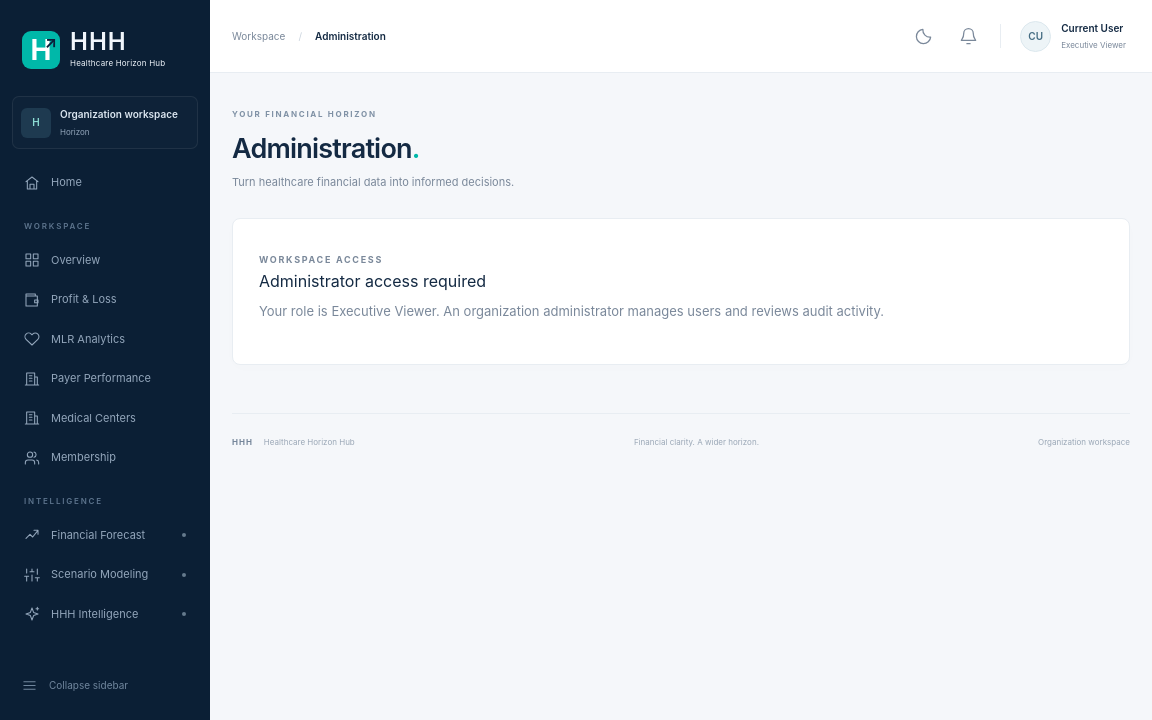
it: Workspace account controls › opens Settings from the account menu
Click the button with aria-label "Your account" at [1073, 36], box top-left (1016, 16), bottom-right (1130, 56)
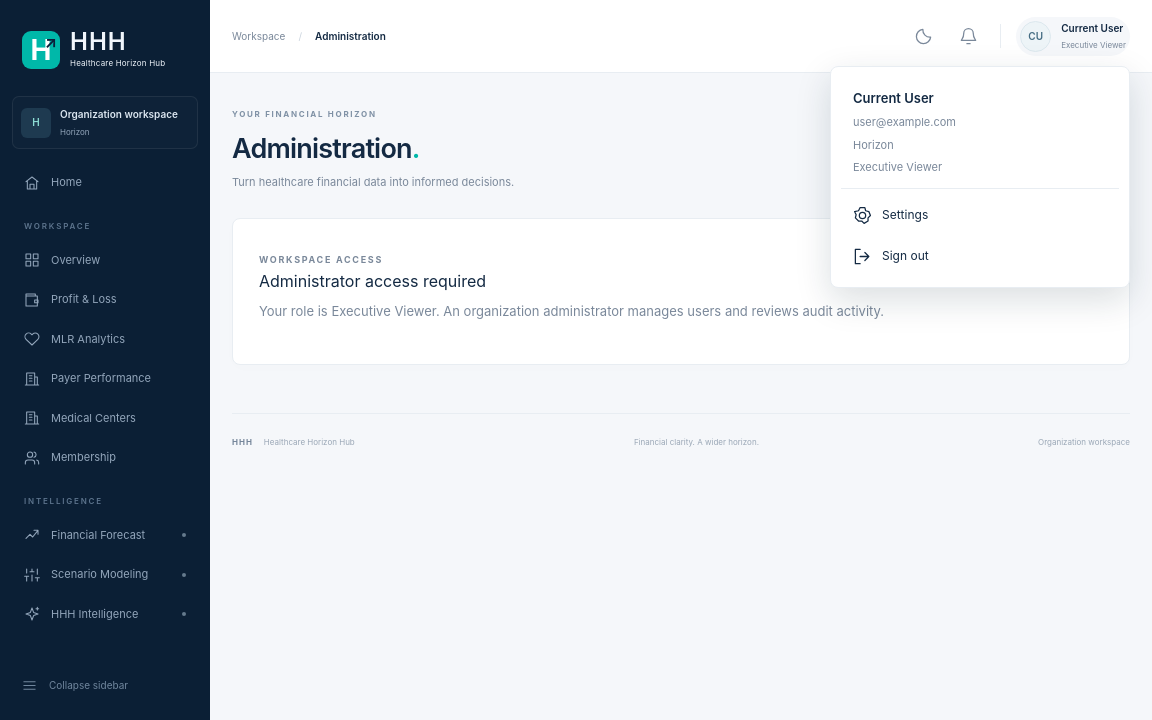
Click the link to "/app/settings" at [891, 215], box top-left (853, 206), bottom-right (928, 224)
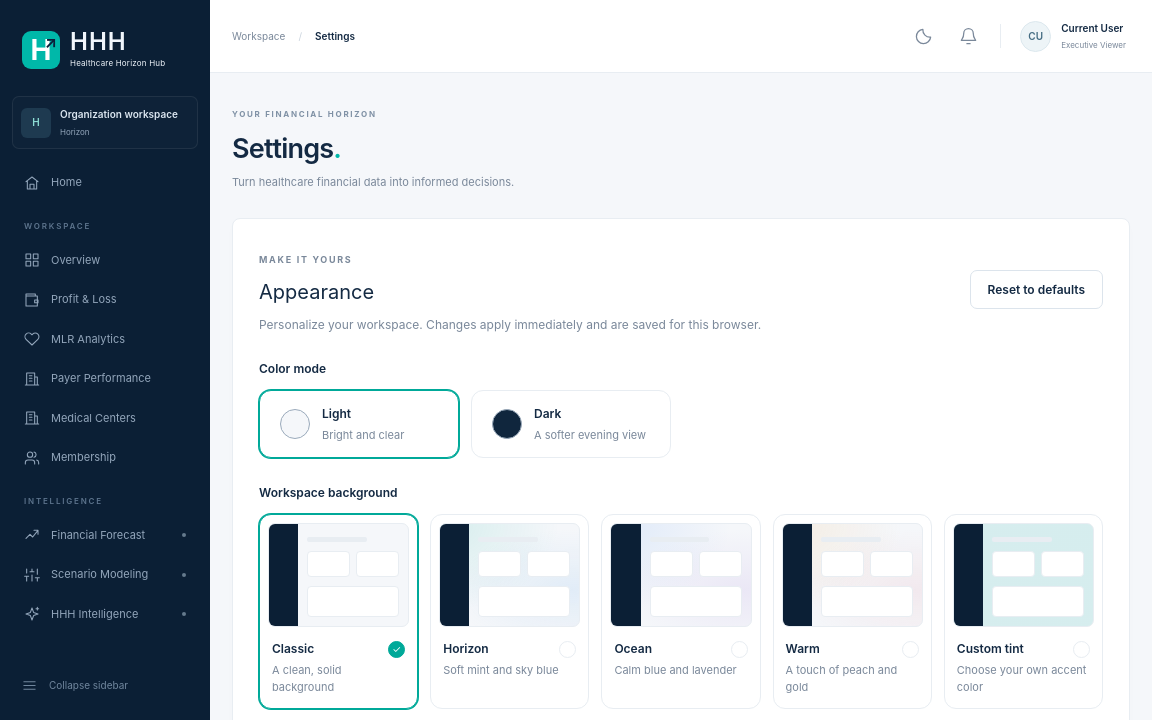
Now the element with id "user-account-menu" is gone
Now the text "Appearance" is shown, box top-left (259, 280), bottom-right (374, 304)
